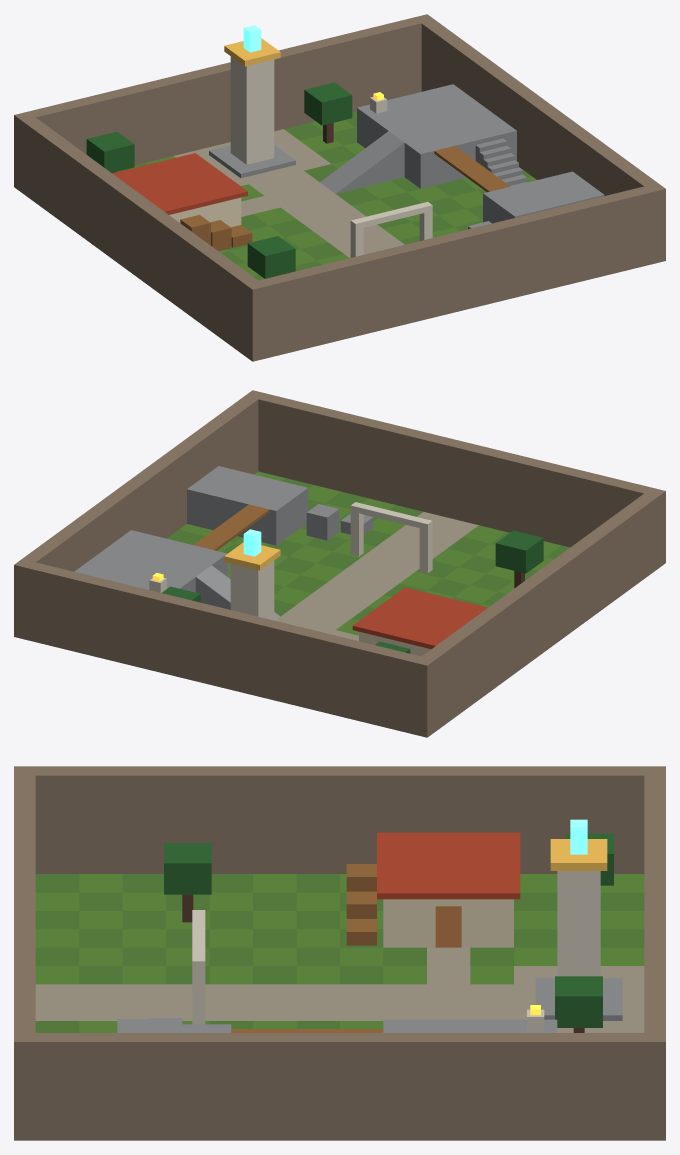
File: level.glb
3 views of the same model, one above another, from view 1: azimuth 30°, elevation 25°; view 2: azimuth 150°, elevation 25°; view 3: azimuth 270°, elevation 25° (orthographic). The views are drawn at different scales.
Parts seen in each view (by area): view 1: Cliff South, Cliff North, Cliff West, Cliff East, Terrace, Floor Paving, Floor Meadow, Floor Grass, House Roof, Tower, Lookout, Ramp (+10 smaller); view 2: Cliff North, Cliff South, Cliff West, Cliff East, Floor Grass, Floor Paving, Floor Meadow, Lookout, Terrace, House Roof, Tower, Tree 1 Leaves (+8 smaller); view 3: Cliff East, Cliff West, Floor Grass, Floor Meadow, Floor Paving, House Roof, Cliff North, Cliff South, Tower, Tree 1 Leaves, Tree 3 Leaves, Terrace (+14 smaller).
Part boxes in pixels (box(x1,y1,x2,y2)): Cliff South: box(244, 183, 665, 361); Cliff North: box(14, 14, 434, 192); Cliff West: box(22, 117, 257, 355); Cliff East: box(421, 20, 657, 195); Terrace: box(357, 84, 516, 188); Floor Paving: box(174, 129, 404, 257); Floor Meadow: box(121, 111, 532, 280); Floor Grass: box(116, 120, 536, 276); House Roof: box(112, 153, 247, 214); Tower: box(230, 56, 274, 164); Lookout: box(483, 171, 604, 223); Ramp: box(320, 131, 404, 193); Cliff North: box(14, 559, 435, 737); Cliff South: box(245, 390, 665, 568); Cliff West: box(422, 493, 657, 731); Cliff East: box(22, 396, 258, 571); Floor Grass: box(179, 471, 560, 635); Floor Paving: box(275, 512, 478, 640); Floor Meadow: box(167, 478, 569, 620); Lookout: box(187, 466, 308, 545); Terrace: box(74, 530, 227, 592); House Roof: box(352, 587, 487, 649); Tower: box(230, 560, 274, 620); Tree 1 Leaves: box(495, 530, 543, 573); Cliff East: box(35, 1033, 644, 1140); Cliff West: box(35, 766, 644, 873); Floor Grass: box(35, 874, 644, 1032); Floor Meadow: box(35, 874, 644, 1032); Floor Paving: box(35, 947, 644, 1032); House Roof: box(377, 832, 520, 899); Cliff North: box(644, 766, 665, 1140); Cliff South: box(14, 766, 35, 1140); Tower: box(557, 871, 600, 976); Tree 1 Leaves: box(164, 843, 211, 894); Tree 3 Leaves: box(555, 976, 602, 1027); Terrace: box(383, 1019, 557, 1032).
Bounding box in the file's own units: 30 × 9.1 × 30.
